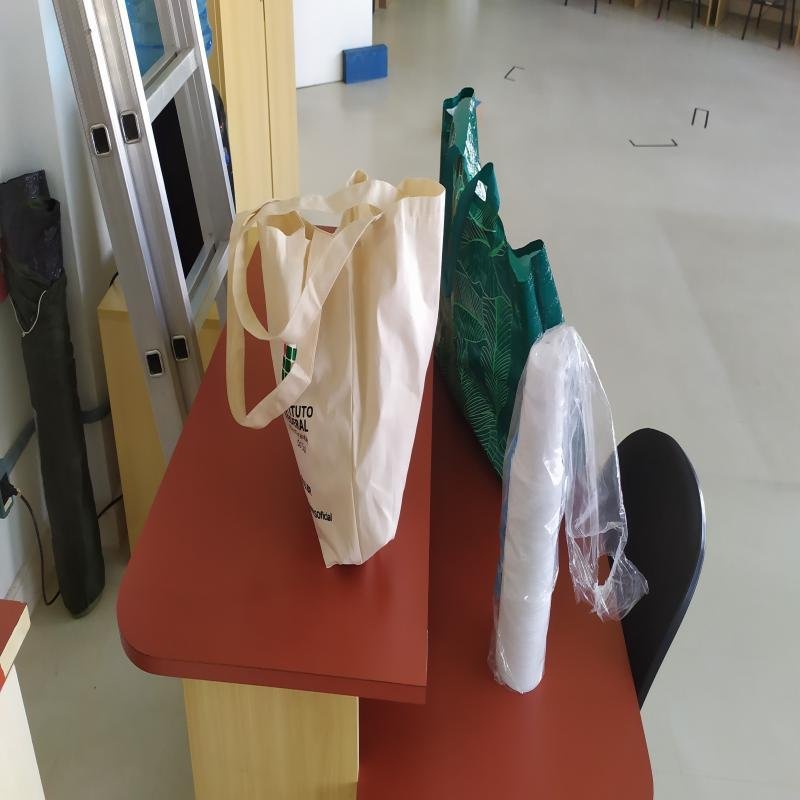Bag: (221, 171, 446, 572), (431, 87, 568, 480)
